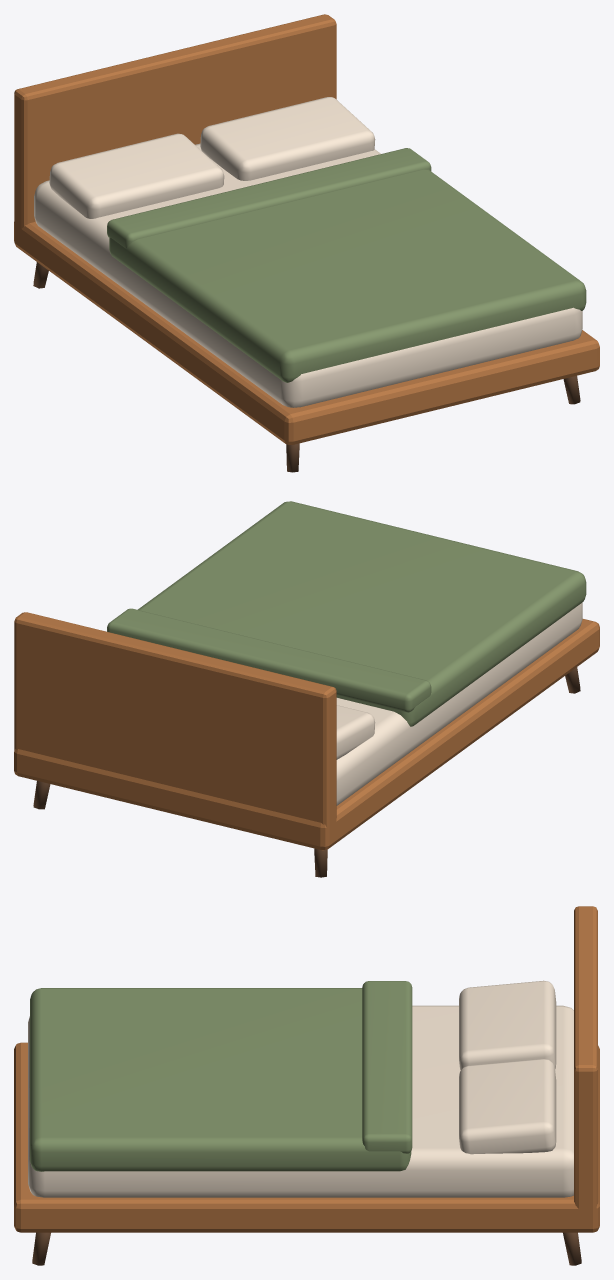
Rendered from bed.glb.
3 renders of one model, top to bottom at view 1: azimuth 30°, elevation 25°; view 2: azimuth 150°, elevation 25°; view 3: azimuth 270°, elevation 25°, orthographic. The views are drawn at different scales.
Parts seen in each view (by area): view 1: bed_blanket, bed_headboard, bed_frame, bed_mattress, bed_pillow_-1, bed_pillow_1, bed_blanket_fold; view 2: bed_blanket, bed_headboard, bed_frame, bed_blanket_fold, bed_mattress, bed_pillow_-1; view 3: bed_blanket, bed_mattress, bed_frame, bed_pillow_1, bed_blanket_fold, bed_pillow_-1, bed_headboard, bed_leg_0.835_1.3, bed_leg_0.835_-1.3.
Part boxes in pixels (x1,y1,x2,y2): bed_blanket: [109, 169, 586, 382]; bed_headboard: [14, 14, 336, 236]; bed_frame: [14, 222, 599, 444]; bed_mattress: [34, 143, 582, 407]; bed_pillow_-1: [49, 133, 224, 218]; bed_pillow_1: [200, 97, 375, 180]; bed_blanket_fold: [107, 148, 431, 248]; bed_blanket: [137, 501, 586, 726]; bed_headboard: [14, 612, 336, 834]; bed_frame: [14, 619, 599, 850]; bed_blanket_fold: [107, 608, 431, 712]; bed_mattress: [336, 602, 582, 805]; bed_pillow_-1: [336, 705, 375, 759]; bed_blanket: [30, 988, 411, 1171]; bed_mattress: [28, 1005, 573, 1197]; bed_frame: [14, 1042, 599, 1232]; bed_pillow_1: [459, 1058, 556, 1154]; bed_blanket_fold: [362, 981, 412, 1153]; bed_pillow_-1: [459, 980, 556, 1070]; bed_headboard: [574, 906, 597, 1216]; bed_leg_0.835_1.3: [563, 1232, 581, 1265]; bed_leg_0.835_-1.3: [32, 1232, 50, 1265].
Size of the model in its own units: 1.92 by 1.13 by 2.92.
